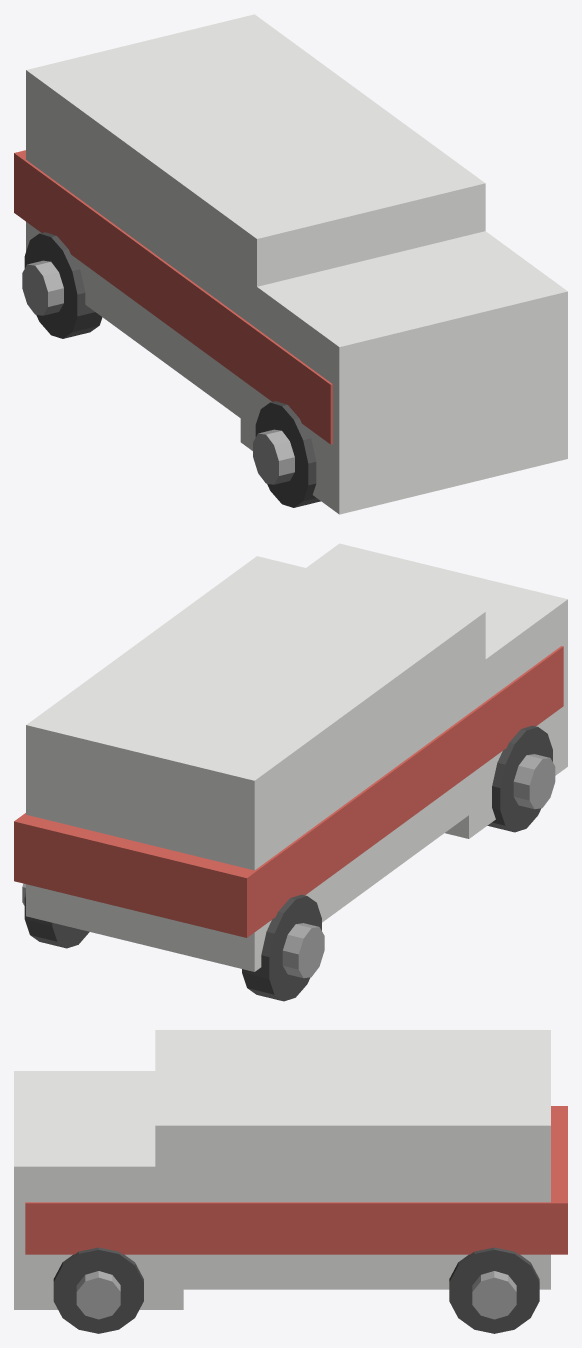
Rendered from ambulance_van.glb.
The picture shows the model from 3 angles, top to bottom: view 1: azimuth 30°, elevation 25°; view 2: azimuth 150°, elevation 25°; view 3: azimuth 270°, elevation 25°; orthographic projection. The views are drawn at different scales.
Visible parts, largest first — view 1: cargo, cab, stripe, wheel_rr, wheel_fr, hub_-1_-1, hub_-1_1; view 2: cargo, stripe, cab, wheel_rr, wheel_fr, hub_-1_1, hub_-1_-1, wheel_rl; view 3: cargo, stripe, cab, wheel_rl, wheel_fl, hub_1_-1, hub_1_1.
Boxes of the visible parts, x1=… form: cargo: x1=26, y1=14, x2=485, y2=428; cab: x1=240, y1=231, x2=567, y2=514; stripe: x1=14, y1=150, x2=332, y2=444; wheel_rr: x1=24, y1=232, x2=102, y2=338; wheel_fr: x1=255, y1=401, x2=320, y2=507; hub_-1_-1: x1=22, y1=260, x2=63, y2=315; hub_-1_1: x1=253, y1=429, x2=294, y2=484; cargo: x1=26, y1=556, x2=485, y2=971; stripe: x1=14, y1=646, x2=563, y2=937; cab: x1=306, y1=543, x2=567, y2=838; wheel_rr: x1=242, y1=894, x2=321, y2=1001; wheel_fr: x1=487, y1=725, x2=552, y2=832; hub_-1_1: x1=513, y1=754, x2=555, y2=809; hub_-1_-1: x1=282, y1=923, x2=324, y2=978; wheel_rl: x1=24, y1=893, x2=89, y2=948; cargo: x1=155, y1=1030, x2=550, y2=1289; stripe: x1=25, y1=1106, x2=567, y2=1254; cab: x1=14, y1=1071, x2=183, y2=1309; wheel_rl: x1=449, y1=1247, x2=539, y2=1333; wheel_fl: x1=53, y1=1247, x2=143, y2=1333; hub_1_-1: x1=472, y1=1271, x2=516, y2=1319; hub_1_1: x1=76, y1=1271, x2=120, y2=1319.
Size of the model in its own units: 2.42 by 2 by 4.9.
